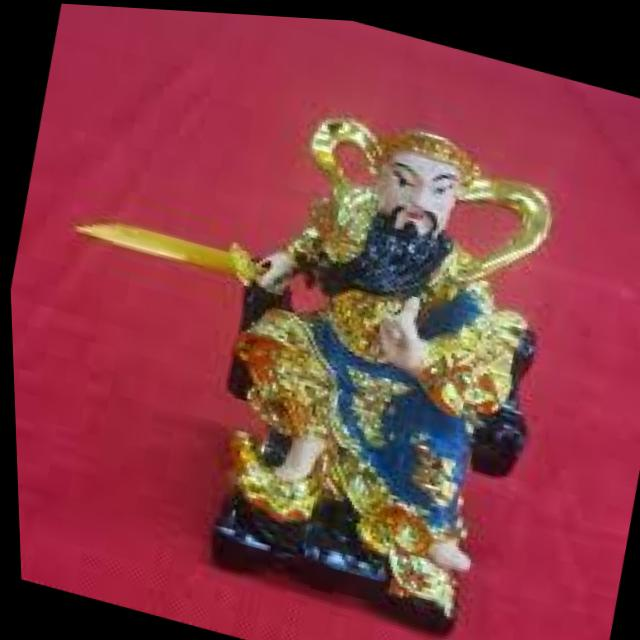Xuan wu: (194, 79, 567, 593)
